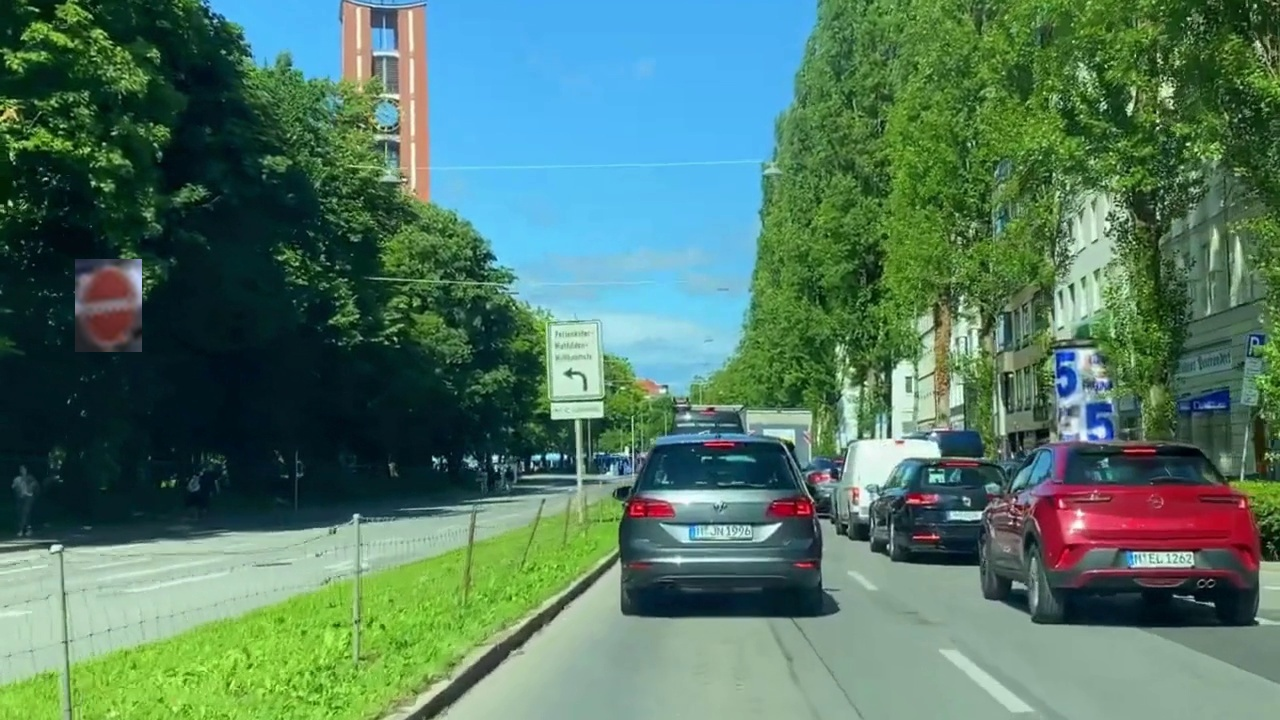No entry: (75, 259, 142, 352)
